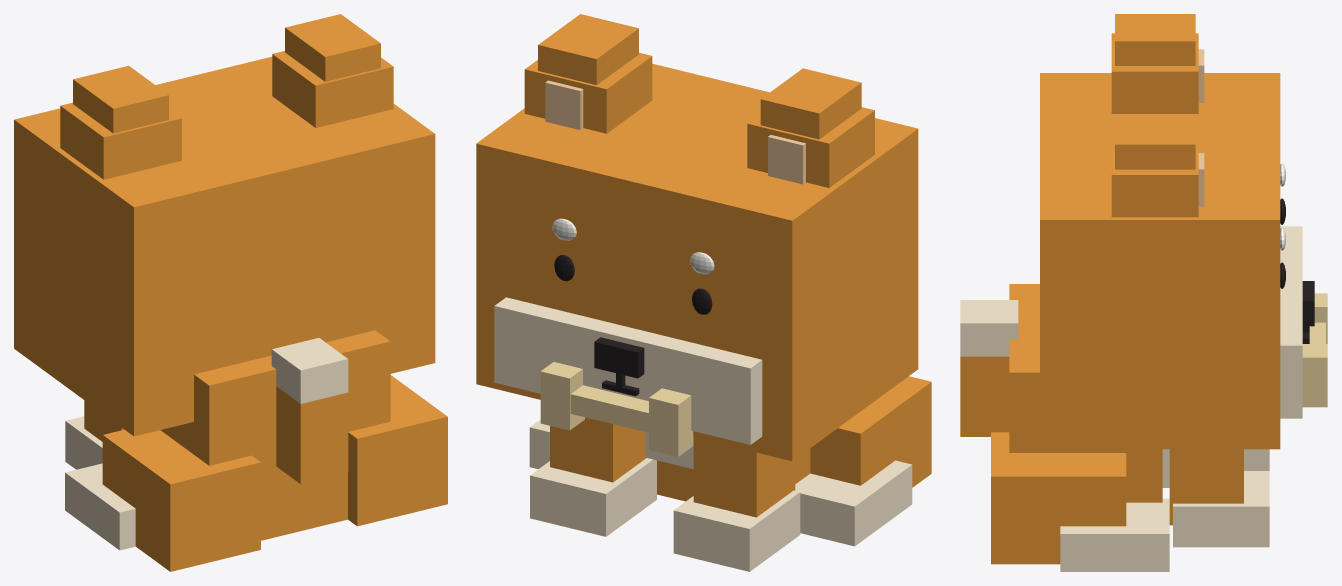
The model's file is Shiba_Block.glb.
3 views of the same model, side by side, from view 1: azimuth 30°, elevation 25°; view 2: azimuth 150°, elevation 25°; view 3: azimuth 270°, elevation 25° (orthographic). The views are drawn at different scales.
Parts seen in each view (by area): view 1: BigHead, ShortTorso, LegBL_Leg, LegBR_Leg, TailRoot, EarR_Base, EarL_Base, EarL_BluntTop, EarR_BluntTop, TailCreamTip, LegBL_Paw, LegFL_Paw (+1 smaller); view 2: BigHead, CreamMuzzle, LegBL_Leg, LegFL_Paw, LegFR_Paw, LegBL_Paw, LegFL_Leg, EarL_BluntTop, EarR_BluntTop, EarR_Base, EarL_Base, LegFR_Leg (+9 smaller); view 3: BigHead, LegBR_Leg, ShortTorso, LegBR_Paw, LegFR_Paw, EarR_Base, EarL_Base, EarR_BluntTop, LegFR_Leg, EarL_BluntTop, CreamMuzzle, TailRoot (+4 smaller).
Part boxes in pixels (x1,y1,x2,y2): BigHead: (14,56,435,436); ShortTorso: (160,330,390,540); LegBL_Leg: (102,429,260,571); LegBR_Leg: (348,375,447,526); TailRoot: (276,386,348,484); EarR_Base: (272,51,393,127); EarL_Base: (60,102,181,179); EarL_BluntTop: (73,65,168,133); EarR_BluntTop: (285,14,380,81); TailCreamTip: (271,338,348,403); LegBL_Paw: (65,463,135,550); LegFL_Paw: (65,416,102,469); BigHead: (476,63,918,461); CreamMuzzle: (494,297,762,444); LegBL_Leg: (810,376,931,487); LegFL_Paw: (673,490,800,571); LegFR_Paw: (530,458,656,536); LegBL_Paw: (795,460,912,546); LegFL_Leg: (693,437,795,517); EarL_BluntTop: (760,68,861,139); EarR_BluntTop: (538,14,638,85); EarR_Base: (524,52,652,133); EarL_Base: (747,107,874,187); LegFR_Leg: (550,417,646,482); BigHead: (1040,73,1280,449); LegBR_Leg: (991,432,1126,564); ShortTorso: (1009,284,1162,502); LegBR_Paw: (1060,498,1169,571); LegFR_Paw: (1173,471,1269,547); EarR_Base: (1111,137,1198,217); EarL_Base: (1111,33,1198,113); EarR_BluntTop: (1115,117,1195,169); LegFR_Leg: (1169,449,1243,525); EarL_BluntTop: (1115,14,1195,65); CreamMuzzle: (1280,226,1302,418); TailRoot: (960,356,1009,436).
Bounding box in the file's own units: 2.22 × 2.86 × 2.28.
